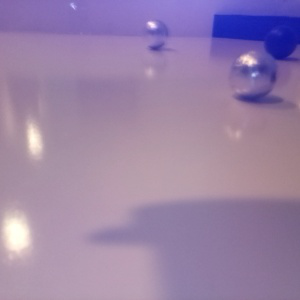alive_ball: (227, 49, 278, 98), (141, 18, 169, 50)
dead_ball: (263, 24, 298, 58)
